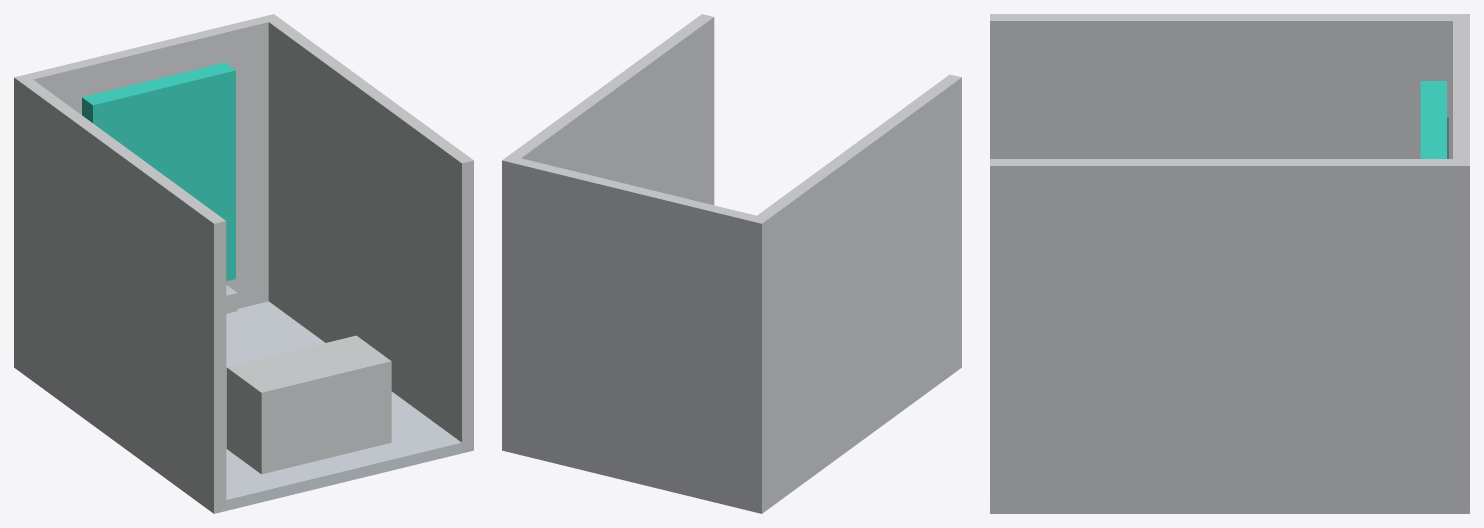
3 views of the same model, side by side, from view 1: azimuth 30°, elevation 25°; view 2: azimuth 150°, elevation 25°; view 3: azimuth 270°, elevation 25° (orthographic). The views are drawn at different scales.
Parts seen in each view (by area): view 1: Exhibition Booth Concept; view 2: Exhibition Booth Concept; view 3: Exhibition Booth Concept.
Boxes of the visible parts, x1,y1,x2,y2 form: Exhibition Booth Concept: (14, 14, 473, 513); Exhibition Booth Concept: (502, 14, 961, 513); Exhibition Booth Concept: (990, 14, 1469, 513).
Size of the model in its own units: 3 by 3.2 by 4.
